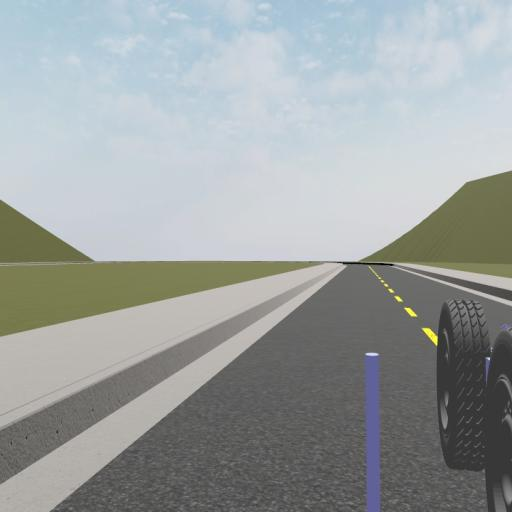ERP-42: (439, 299, 512, 512)
